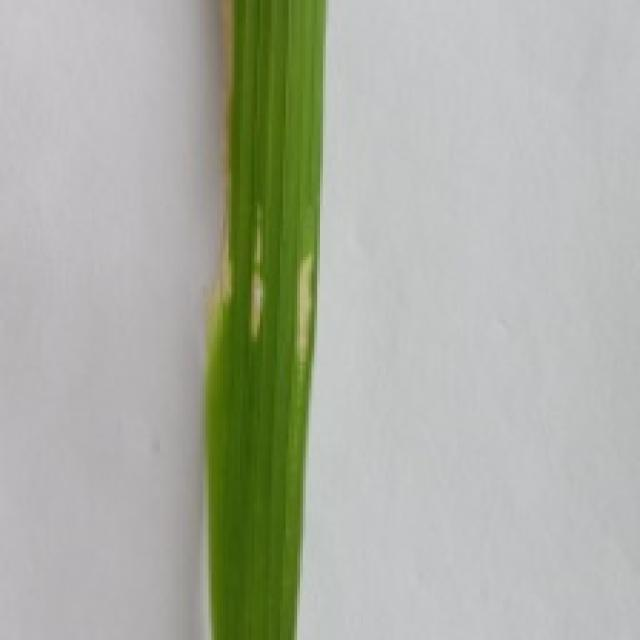Bacterial_Blight: (203, 2, 237, 329), (290, 249, 317, 384), (251, 222, 264, 335)
